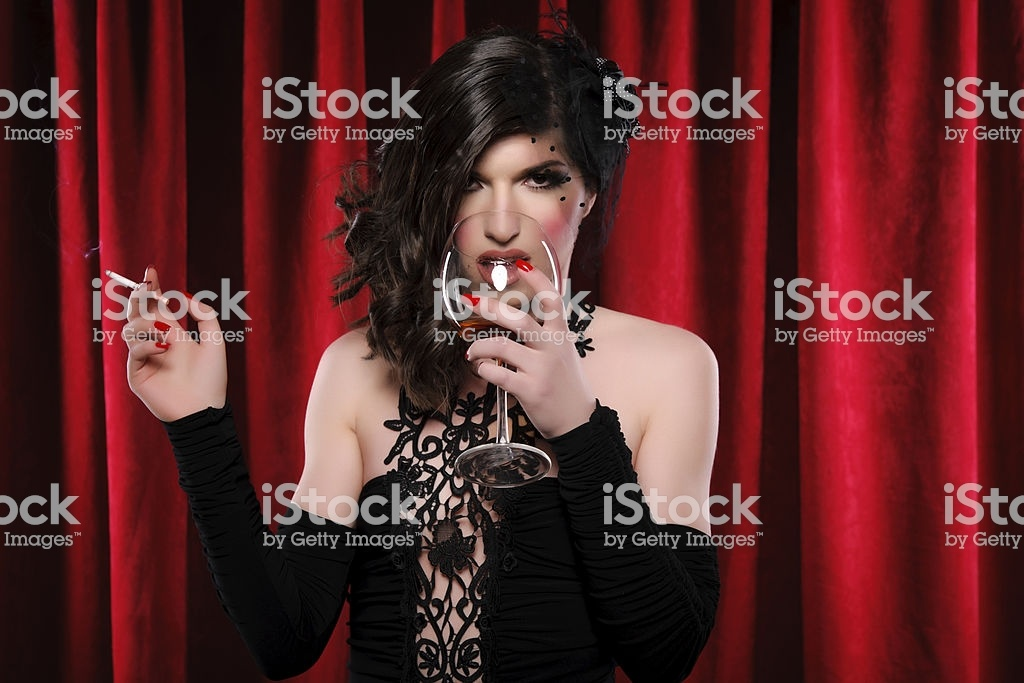sigaretta: (102, 266, 176, 304)
